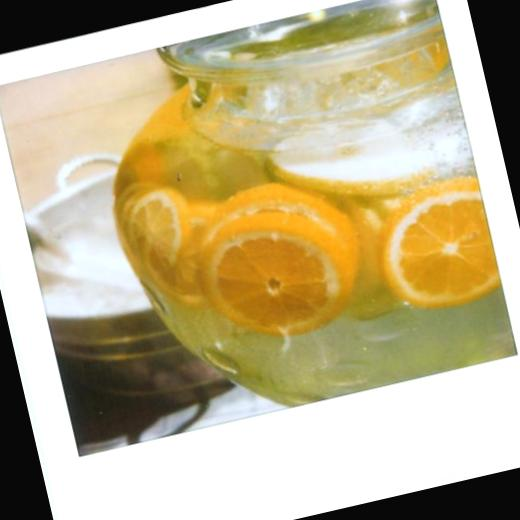Grape: (101, 90, 504, 378)
